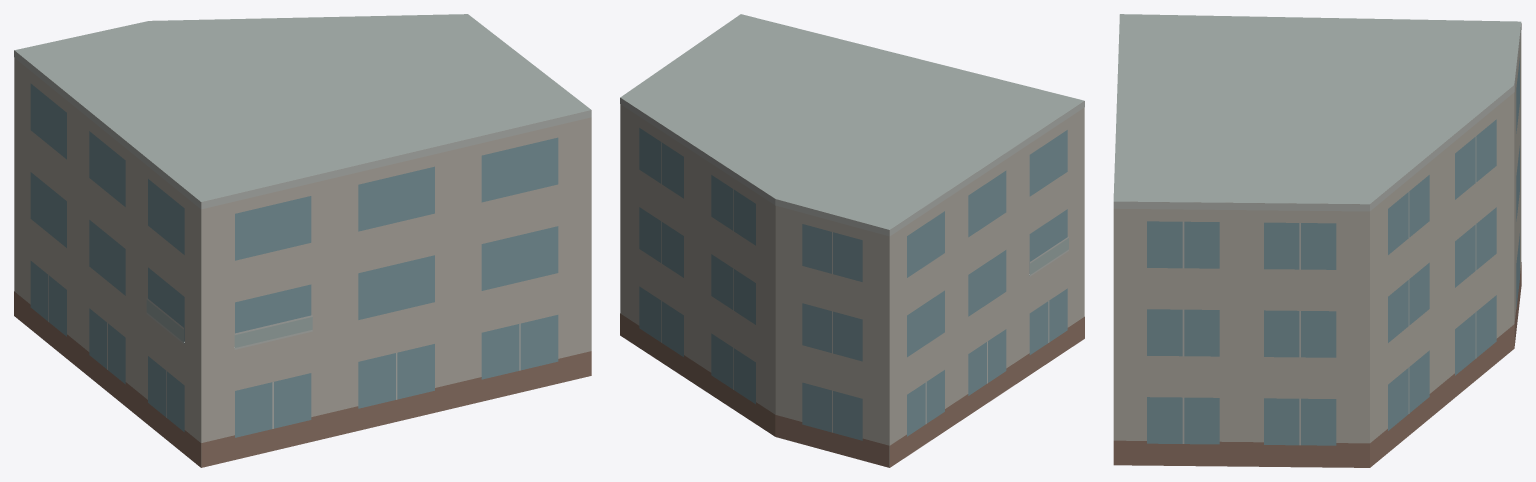
Rendered from survey-upis-32970234.glb.
3 renders of one model, left to right at view 1: azimuth 30°, elevation 25°; view 2: azimuth 150°, elevation 25°; view 3: azimuth 270°, elevation 25°, orthographic. The views are drawn at different scales.
Visible parts, largest first — view 1: survey-upis-32970234.tmp; view 2: survey-upis-32970234.tmp; view 3: survey-upis-32970234.tmp.
Boxes of the visible parts, x1,y1,x2,y2 form: survey-upis-32970234.tmp: [14, 14, 591, 467]; survey-upis-32970234.tmp: [620, 14, 1084, 467]; survey-upis-32970234.tmp: [1113, 14, 1521, 467].
Bounding box in the file's own units: 13.78 × 8.9 × 12.49.
